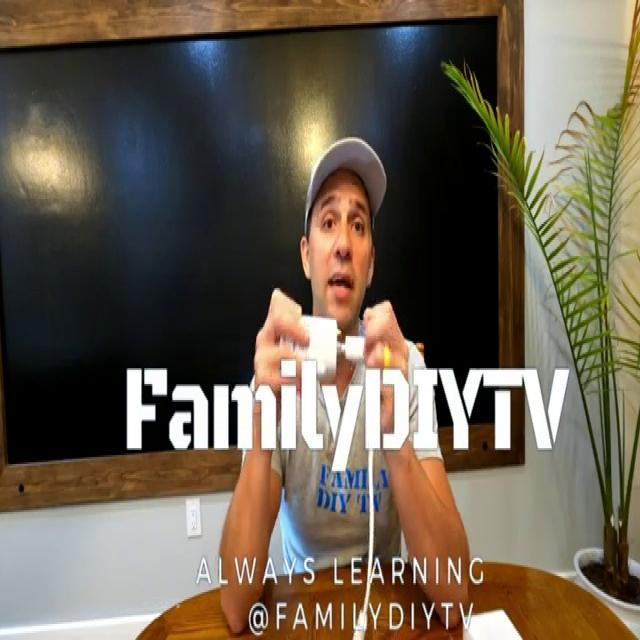adult: (220, 129, 472, 640)
